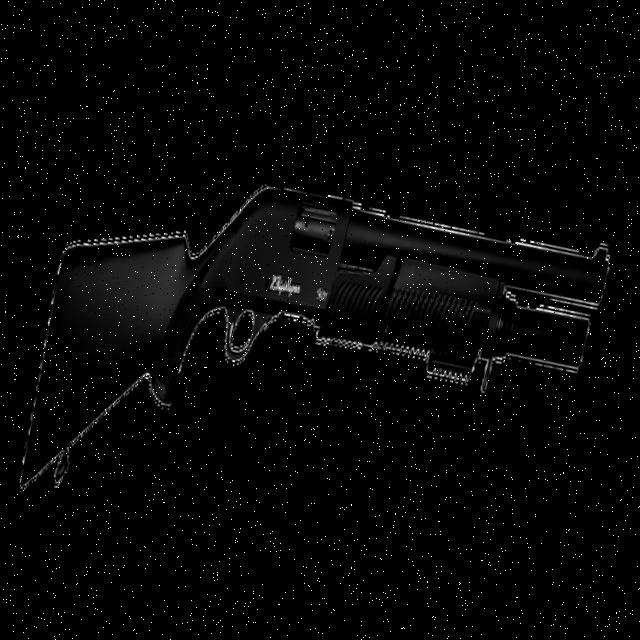firearm: (4, 110, 624, 626)
